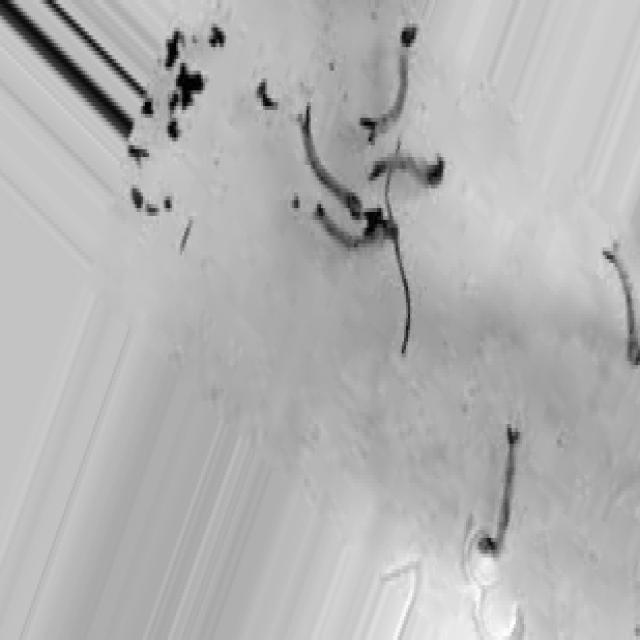larvas: (291, 98, 368, 226), (362, 18, 416, 140), (480, 431, 519, 548), (602, 245, 640, 364), (316, 207, 382, 248), (369, 157, 444, 190)
